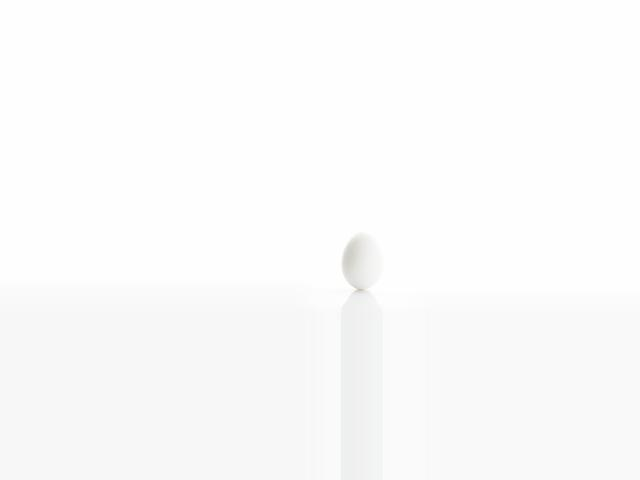egg: (341, 232, 382, 290)
